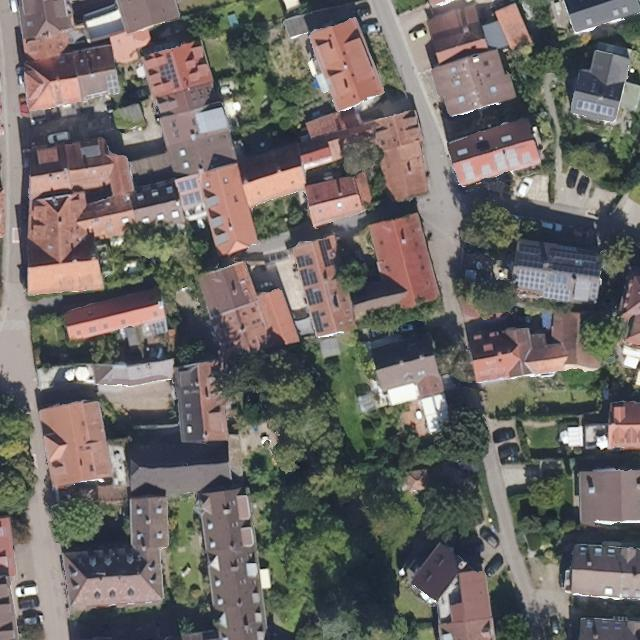PV: (513, 241, 601, 303), (158, 52, 181, 90), (574, 99, 616, 119), (177, 177, 203, 207), (317, 237, 339, 269), (298, 266, 319, 288), (304, 287, 325, 306), (310, 309, 325, 334), (295, 253, 314, 270), (106, 71, 119, 95)
